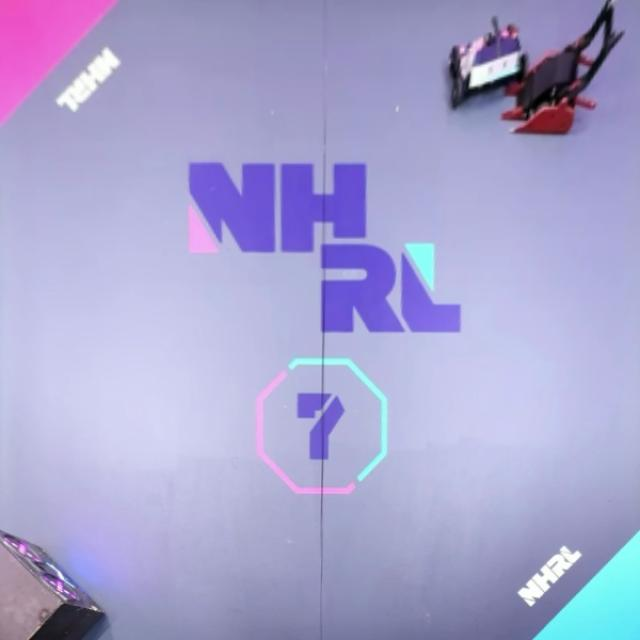housebot: (0, 528, 107, 640)
robot: (503, 3, 624, 135), (447, 23, 533, 106)
